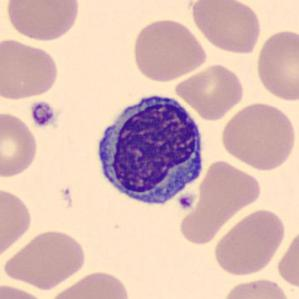Lymphocyte: (89, 87, 210, 212)
Platelets: (29, 100, 57, 130), (176, 192, 196, 212)
RBC: (218, 100, 298, 171), (129, 16, 210, 84), (2, 227, 89, 290), (211, 206, 287, 278), (174, 62, 246, 121), (188, 0, 264, 55), (0, 36, 61, 101), (194, 158, 262, 210), (253, 27, 298, 103), (3, 0, 82, 43), (0, 110, 40, 180), (45, 268, 132, 299), (0, 185, 34, 260), (219, 275, 293, 299), (274, 226, 299, 291), (0, 281, 50, 299)
